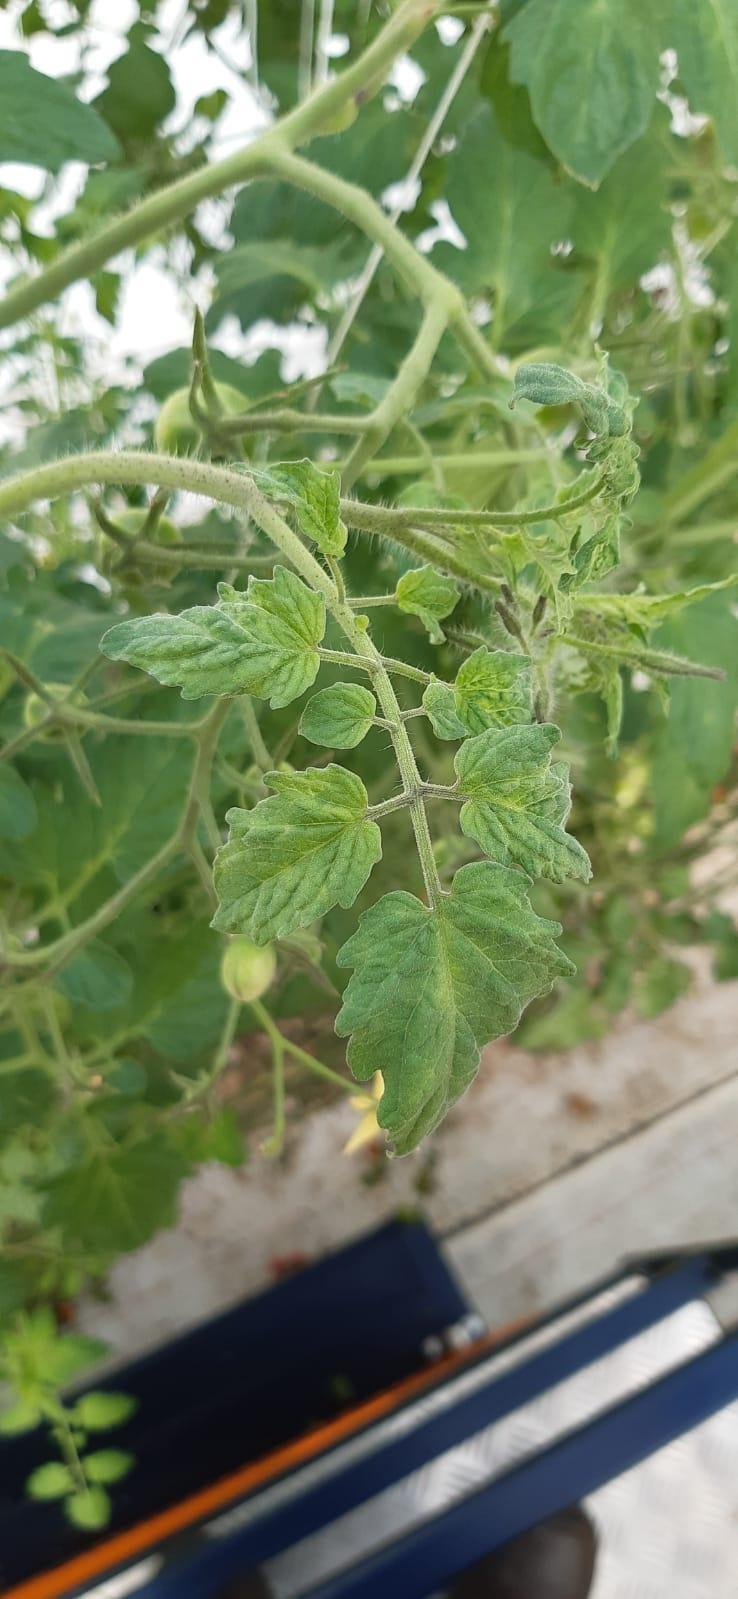Hoja rugoso: (334, 861, 571, 1154), (98, 565, 323, 707), (209, 764, 379, 944), (452, 723, 590, 881), (238, 459, 347, 558), (453, 644, 530, 734), (300, 684, 375, 747)
Pedunculo rugoso: (0, 453, 344, 615), (340, 481, 602, 531), (393, 724, 443, 905), (369, 784, 466, 818)
